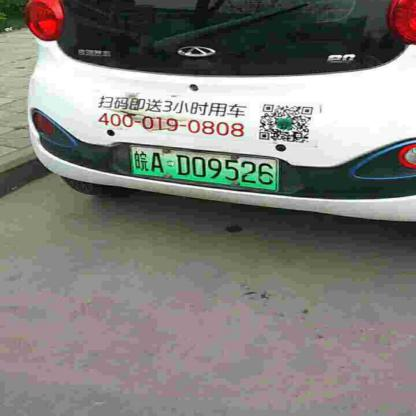lp: (129, 146, 278, 190)
